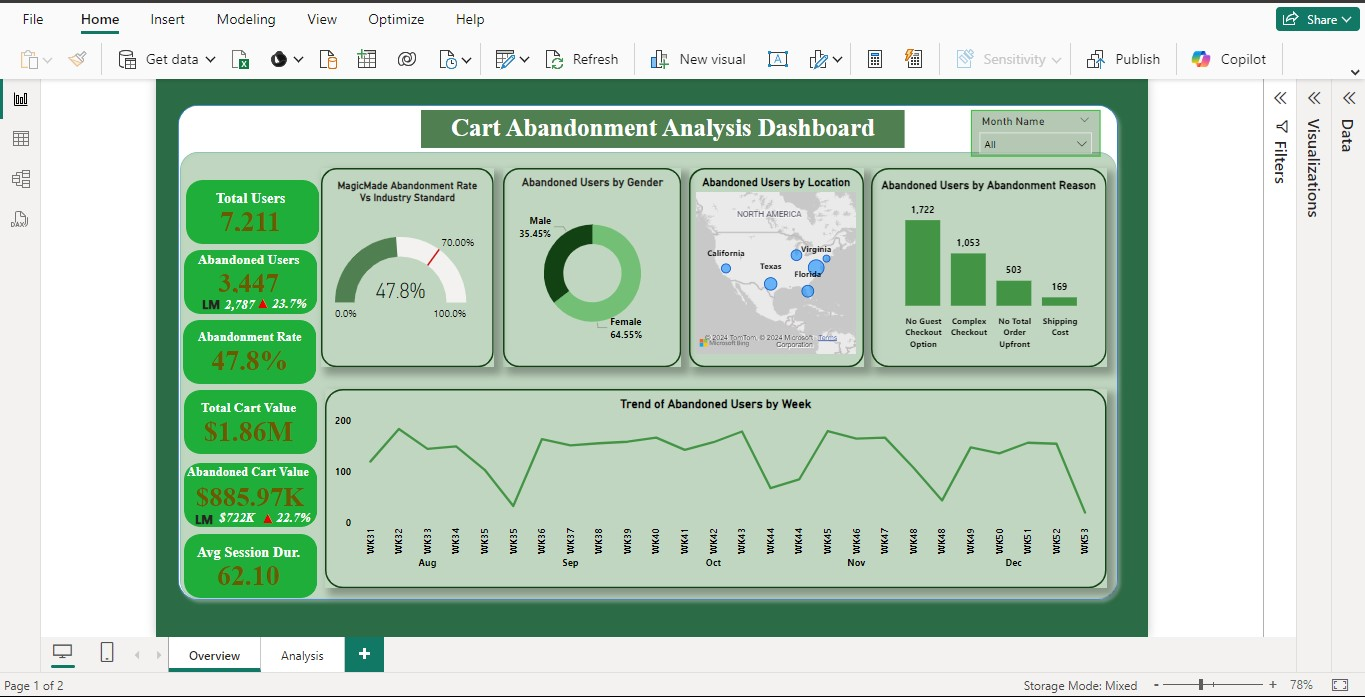

Layout of this report page (visuals, bound fields, positions):
{"tool":"powerbi","page":{"name":"Overview","canvas":[1280,720],"ordinal":0},"visuals":[{"type":"group","id":"g1","title":"Group 1","box":[19.9,24.2,1230.7,656.5],"z":0},{"type":"shape","box":[19.9,24.2,1230.7,656.5],"z":0,"group":"g8"},{"type":"shape","box":[38.5,130.8,172,82.6],"z":0,"group":"g2"},{"type":"shape","box":[35.8,587.7,172,82.6],"z":0,"group":"g7"},{"type":"shape","box":[22.1,85.1,1226.7,594.5],"z":1000,"group":"g8"},{"type":"group","id":"g2","title":"Group 2","box":[38.5,130.8,172,82.6],"z":1000},{"type":"shape","box":[35.8,220.2,172,82.6],"z":1000,"group":"g3"},{"type":"card","title":"Avg Session Dur.","fields":{"Values":["Measure.Avg Session Dur."]},"box":[45.4,600.1,148.6,57.8],"z":1000,"group":"g7"},{"type":"group","id":"g3","title":"Group 3","box":[35.8,220.2,172,82.6],"z":2000},{"type":"shape","box":[34.4,311.1,172,82.6],"z":2000,"group":"g4"},{"type":"group","id":"g4","title":"Group 4","box":[34.4,311.1,172,82.6],"z":3000},{"type":"shape","box":[35.8,401.9,172,82.6],"z":3000,"group":"g5"},{"type":"group","id":"g5","title":"Group 5","box":[35.8,401.9,172,82.6],"z":4000},{"type":"shape","box":[35.8,495.5,172,82.6],"z":4000,"group":"g6"},{"type":"group","id":"g6","title":"Group 6","box":[35.1,495.5,173.4,82.6],"z":5000},{"type":"card","title":"Total Users","fields":{"Values":["Measure.Total Users"]},"box":[48.1,143.2,148.6,57.8],"z":6000,"group":"g2"},{"type":"group","id":"g7","title":"Group 7","box":[35.8,587.7,172,82.6],"z":6000},{"type":"card","title":"Abandoned Users","fields":{"Values":["Measure.Abandoned Users"]},"box":[45.4,223,148.6,57.8],"z":7000,"group":"g3"},{"type":"card","title":"Abandoned Users","fields":{"Values":["Measure.Cart User PM"]},"box":[75.7,278,63.3,30.3],"z":7000},{"type":"group","id":"g8","title":"Group 8","box":[19.9,24.2,1230.7,656.5],"z":7002,"group":"g1"},{"type":"card","title":"Abandoned Users","fields":{"Values":["Measure.Cart Users MoM"]},"box":[132.1,276.6,81.2,30.3],"z":8000},{"type":"card","title":"Total Cart Value","fields":{"Values":["Measure.Total Cart Value"]},"box":[45.4,414.3,148.6,57.8],"z":8000,"group":"g5"},{"type":"card","title":"Abandonment Rate","fields":{"Values":["Measure.Abandonment Rate"]},"box":[45.4,323.5,148.6,57.8],"z":9000,"group":"g4"},{"type":"card","title":"Abandoned Users","fields":{"Values":["Measure.Cart Value PM"]},"box":[66.4,552.9,77.1,30],"z":9000},{"type":"card","title":"Abandoned Cart Value","fields":{"Values":["Measure.Abandoned Cart Value"]},"box":[35.1,498.3,173.4,61.9],"z":10000,"group":"g6"},{"type":"card","title":"Abandoned Users","fields":{"Values":["Measure.Cart Value MoM"]},"box":[136.4,552.1,81.4,30],"z":10000},{"type":"card","title":"Abandoned Users","fields":{"Values":["Measure.Cart User Icon"]},"box":[110.1,276.6,56.4,30.3],"z":11000},{"type":"textbox","box":[53.7,275.3,48.2,42.7],"z":12000},{"type":"textbox","box":[45.7,552.1,48.6,42.1],"z":13000},{"type":"card","title":"Abandoned Users","fields":{"Values":["Measure.Cart Value Icon"]},"box":[115.7,552.1,56.4,30.7],"z":14000},{"type":"shape","box":[212.9,114.3,222.9,257.1],"z":15000},{"type":"shape","box":[447.1,114.3,230,257.1],"z":16000},{"type":"shape","box":[687.1,114.3,225.7,257.1],"z":17000},{"type":"shape","box":[922.9,114.3,304.3,257.1],"z":18000},{"type":"shape","box":[218.6,400,1008.6,257.1],"z":19000},{"type":"textbox","box":[341.4,40,624.3,48.6],"z":20000},{"type":"gauge","title":"MagicMade Abandonment Rate Vs Industry Standard","fields":{"Y":["Measure.Abandonment Rate"],"TargetValue":["Measure.Target"]},"box":[225.7,130,197.1,228.6],"z":21000},{"type":"donutChart","fields":{"Category":["Magicmade Past_Records.Gender"],"Y":["Measure.Abandoned Users"]},"box":[458,124.6,210.1,234.8],"z":22000},{"type":"map","title":"Abandoned Users by Location","fields":{"Category":["Magicmade Past_Records.User_Location"],"Size":["Measure.Abandoned Users"]},"box":[691.3,124.6,217.4,234.8],"z":23000},{"type":"clusteredColumnChart","title":"Abandoned Users by Abandonment Reason","fields":{"Category":["Magicmade Past_Records.Abandonment_Reason"],"Y":["Measure.Abandoned Users"]},"box":[930.4,129,288.4,227.5],"z":24000},{"type":"lineChart","title":"Trend of Abandoned Users by Week","fields":{"Y":["Measure.Abandoned Users"],"Category":["Date Table.Month Name","Date Table.Week Name"]},"box":[226.1,408.7,992.8,237.7],"z":25000},{"type":"slicer","fields":{"Values":["Date Table.Month Name"]},"box":[1051.7,40,166.7,60],"z":26000}]}

Visuals, with their boxes on the page's 1280x720 design canvas (x1, y1, x2, y2). These are canvas units, not pixel positions in the 1365x697 screenshot, which may show the page scaled, cropped or inside an application window:
"Group 1" group: 20,24,1251,681
shape: 20,24,1251,681
shape: 38,131,210,213
shape: 36,588,208,670
shape: 22,85,1249,680
"Group 2" group: 38,131,210,213
shape: 36,220,208,303
"Avg Session Dur." card: 45,600,194,658
"Group 3" group: 36,220,208,303
shape: 34,311,206,394
"Group 4" group: 34,311,206,394
shape: 36,402,208,484
"Group 5" group: 36,402,208,484
shape: 36,496,208,578
"Group 6" group: 35,496,208,578
"Total Users" card: 48,143,197,201
"Group 7" group: 36,588,208,670
"Abandoned Users" card: 45,223,194,281
"Abandoned Users" card: 76,278,139,308
"Group 8" group: 20,24,1251,681
"Abandoned Users" card: 132,277,213,307
"Total Cart Value" card: 45,414,194,472
"Abandonment Rate" card: 45,324,194,381
"Abandoned Users" card: 66,553,144,583
"Abandoned Cart Value" card: 35,498,208,560
"Abandoned Users" card: 136,552,218,582
"Abandoned Users" card: 110,277,166,307
textbox: 54,275,102,318
textbox: 46,552,94,594
"Abandoned Users" card: 116,552,172,583
shape: 213,114,436,371
shape: 447,114,677,371
shape: 687,114,913,371
shape: 923,114,1227,371
shape: 219,400,1227,657
textbox: 341,40,966,89
"MagicMade Abandonment Rate Vs Industry Standard" gauge: 226,130,423,359
donutChart - Magicmade Past_Records.Gender x Measure.Abandoned Users: 458,125,668,359
"Abandoned Users by Location" map: 691,125,909,359
"Abandoned Users by Abandonment Reason" clusteredColumnChart: 930,129,1219,356
"Trend of Abandoned Users by Week" lineChart: 226,409,1219,646
slicer - Date Table.Month Name: 1052,40,1218,100
